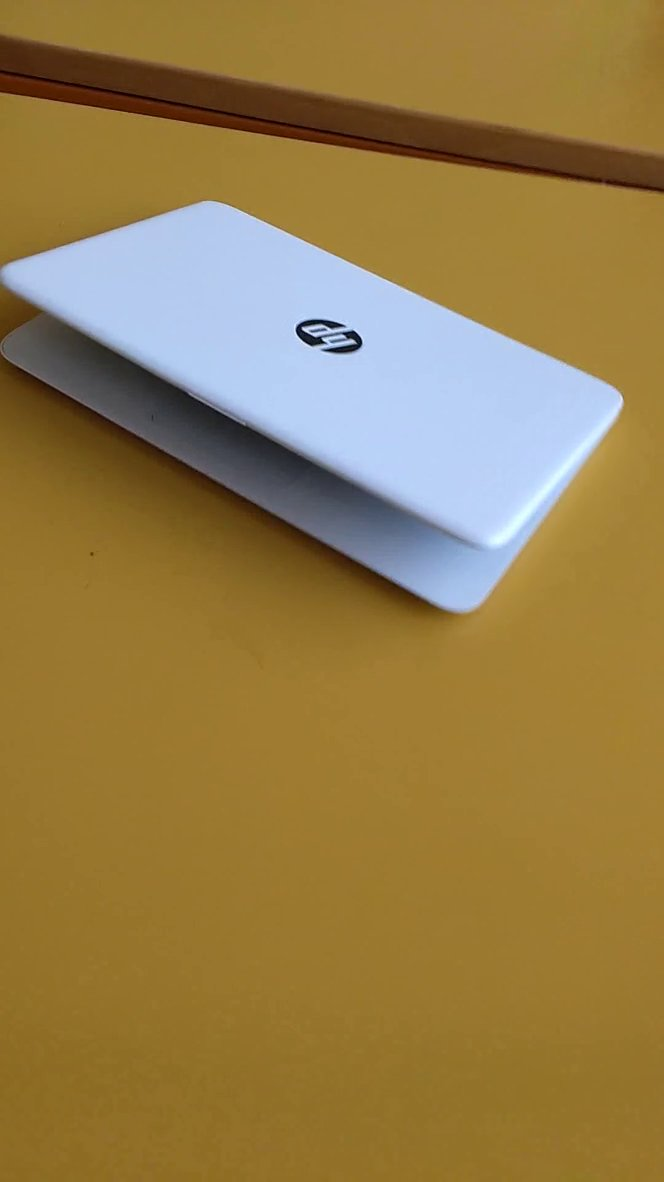laptop: (1, 186, 652, 644)
